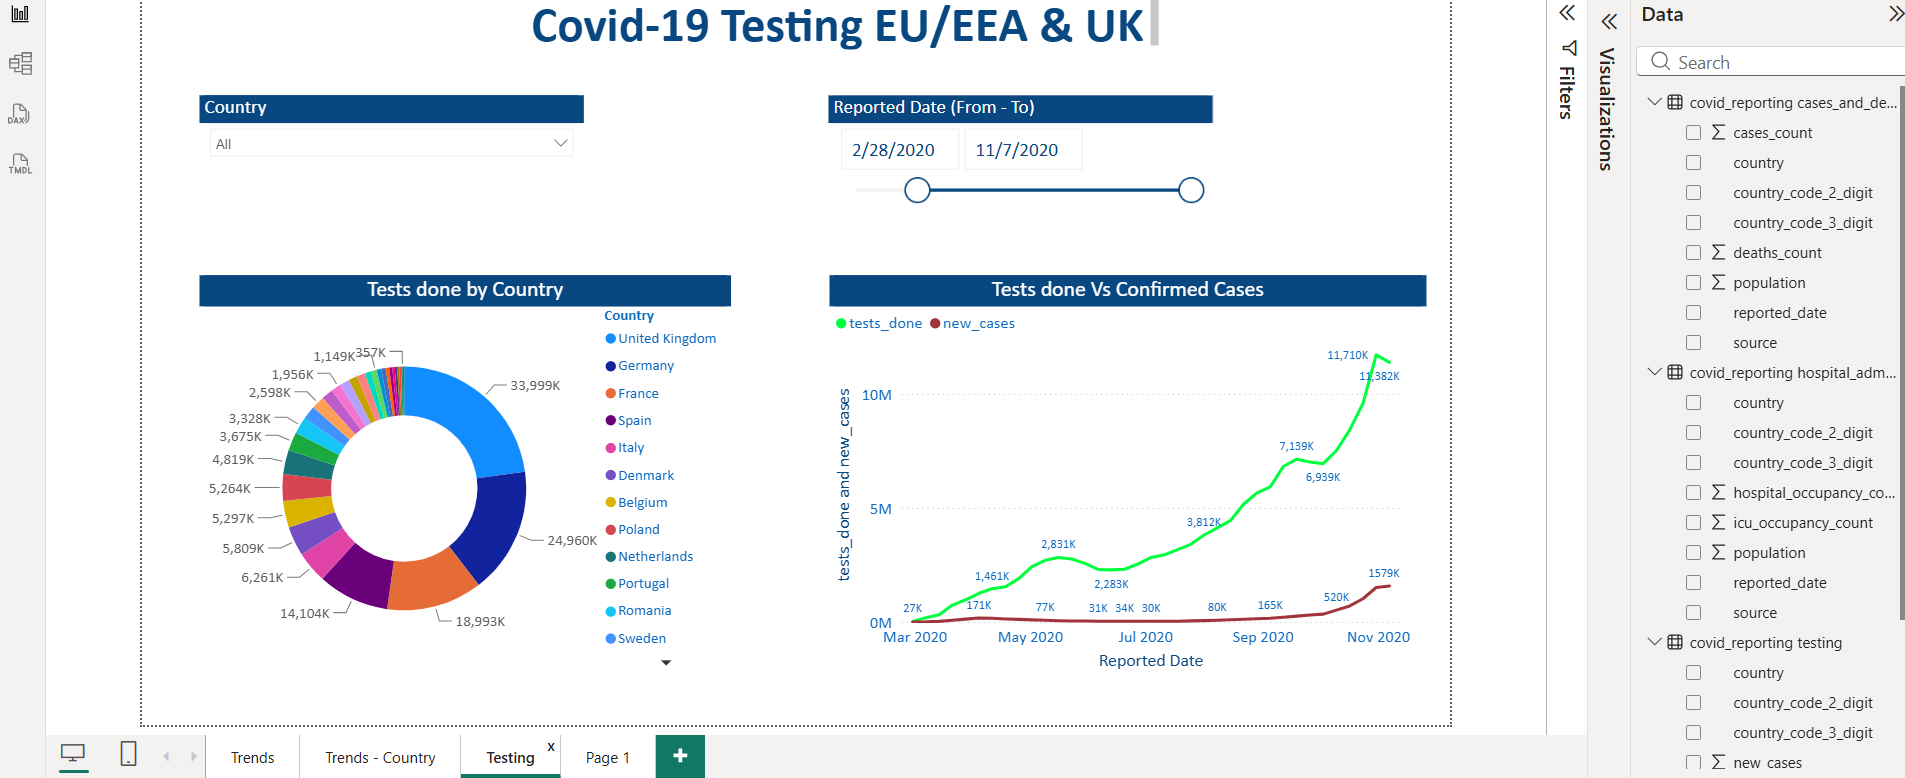

What the dashboard file says about the page in this screenshot:
{"tool":"powerbi","page":{"name":"Testing","canvas":[1280,720],"ordinal":2},"visuals":[{"type":"donutChart","title":"Tests done by Country","fields":{"Category":["covid_reporting testing.country"],"Y":["Sum(covid_reporting testing.tests_done)"]},"box":[56,280,520,392],"z":0},{"type":"lineChart","title":"Tests done Vs Confirmed Cases","fields":{"Category":["covid_reporting testing.week_end_date"],"Y":["Sum(covid_reporting testing.tests_done)","Sum(covid_reporting testing.new_cases)"]},"box":[672,280,584,392],"z":1000},{"type":"slicer","title":"Reported Date (From - To)","fields":{"Values":["covid_reporting testing.week_end_date"]},"box":[671.7,104.3,375.7,112],"z":2000},{"type":"slicer","title":"Country","fields":{"Values":["covid_reporting testing.country"]},"box":[56,104.3,375.7,119.7],"z":3000},{"type":"textbox","box":[376,0,624,64],"z":4000}]}

Visuals, with their boxes on the page's 1280x720 design canvas (x1, y1, x2, y2). These are canvas units, not pixel positions in the 1905x778 screenshot, which may show the page scaled, cropped or inside an application window:
"Tests done by Country" donutChart: box(56, 280, 576, 672)
"Tests done Vs Confirmed Cases" lineChart: box(672, 280, 1256, 672)
"Reported Date (From - To)" slicer: box(672, 104, 1047, 216)
"Country" slicer: box(56, 104, 432, 224)
textbox: box(376, 0, 1000, 64)
